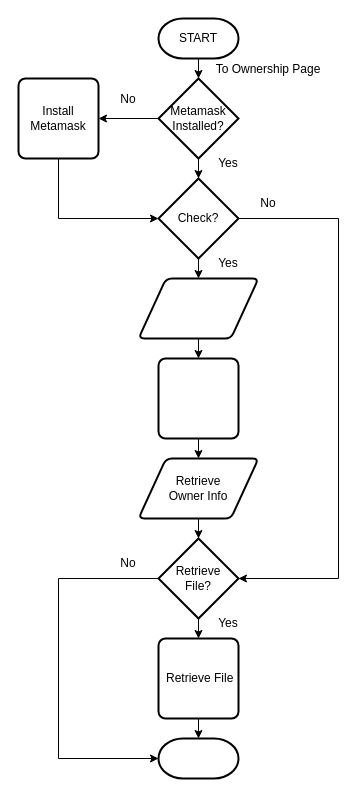
This 364x796 diagram has some shape labels left out. Here are the shapes that lost their labels. From the top down, the centre of each, then its label:
At point (198, 308): "Load File".
At point (198, 398): "Convert File to Buffer".
At point (198, 758): "End".
